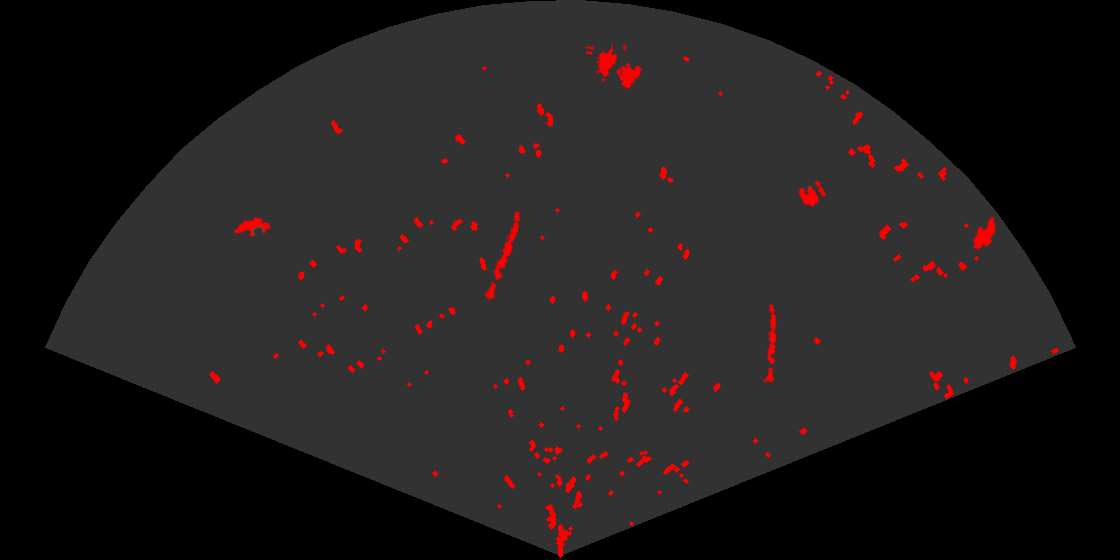AUV: (971, 215, 998, 252), (232, 215, 273, 238)
ball: (797, 179, 827, 208)
cage: (586, 45, 644, 91)
chain: (483, 209, 522, 307), (764, 303, 778, 384)
